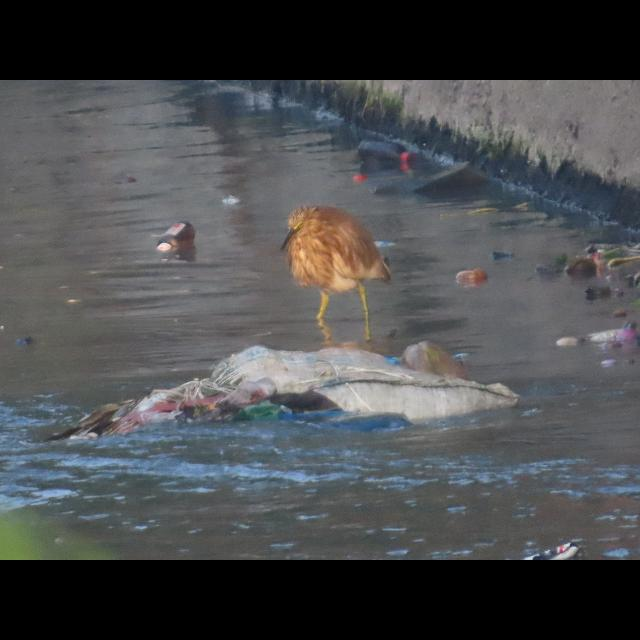heron: (274, 195, 401, 345)
